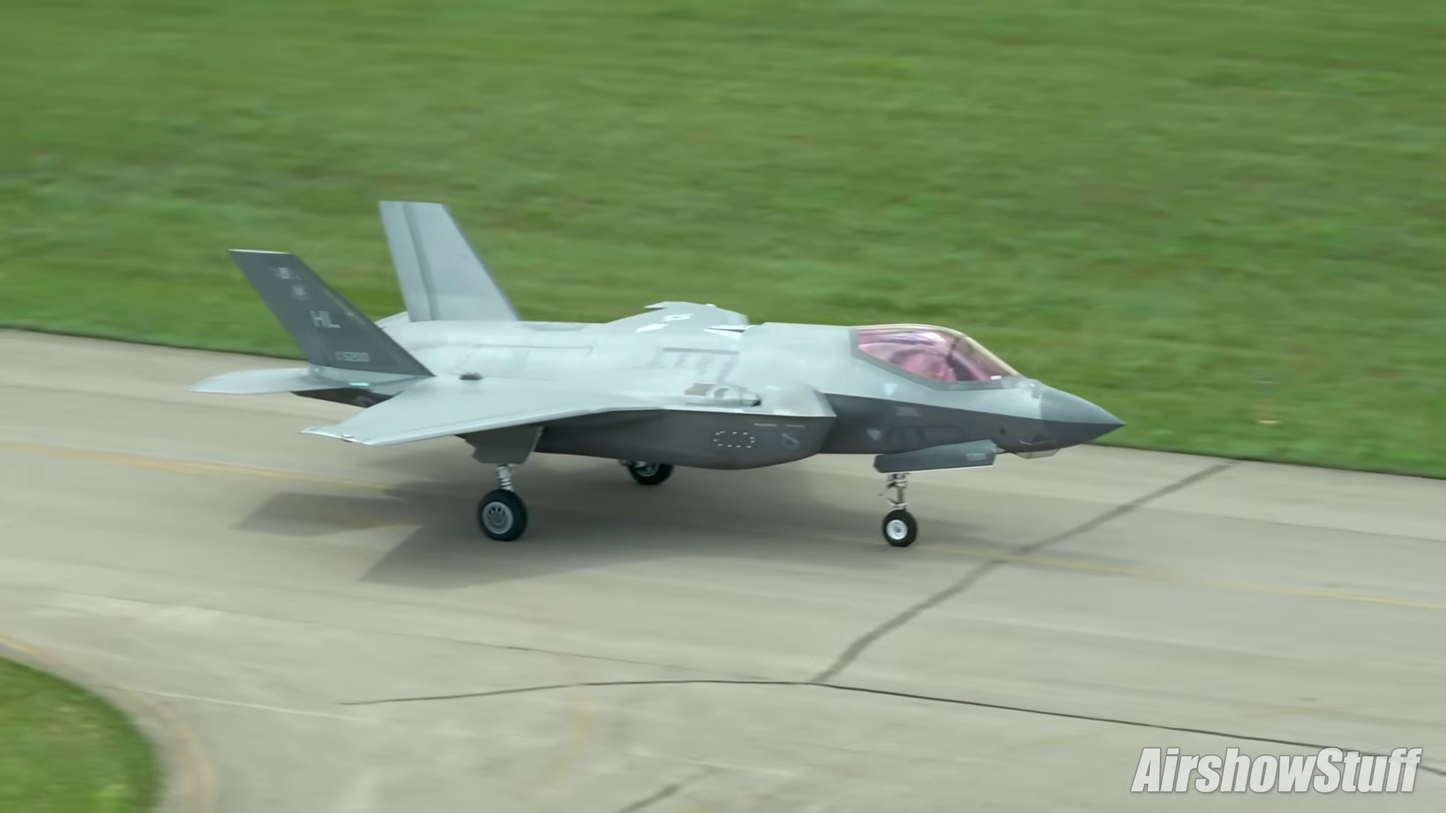F35: (182, 194, 1129, 553)
